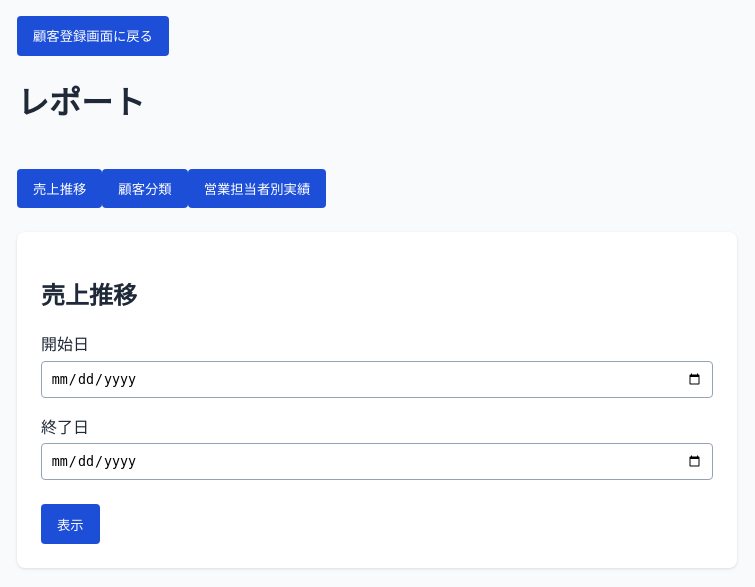
Test: 営業担当者別実績レポート › 切替操作と関連付けられた日付入力・表示ボタンを表示し、開いただけでは取得しない
The image size is (755, 587).
Click the button "営業担当者別実績".
click(257, 189)  # box [188,169,326,208]
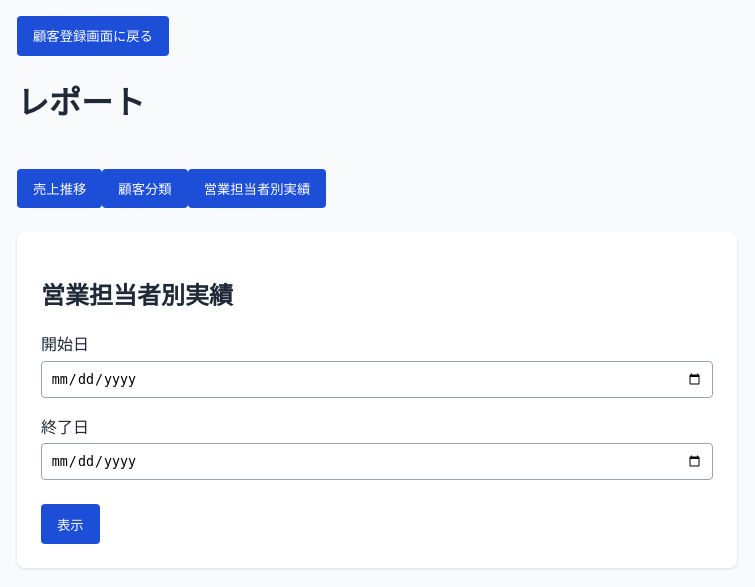
expect the button "表示" is shown: met, box [41,504,100,544]
expect the heading "営業担当者別実績" is shown: met, box [41,278,233,311]
